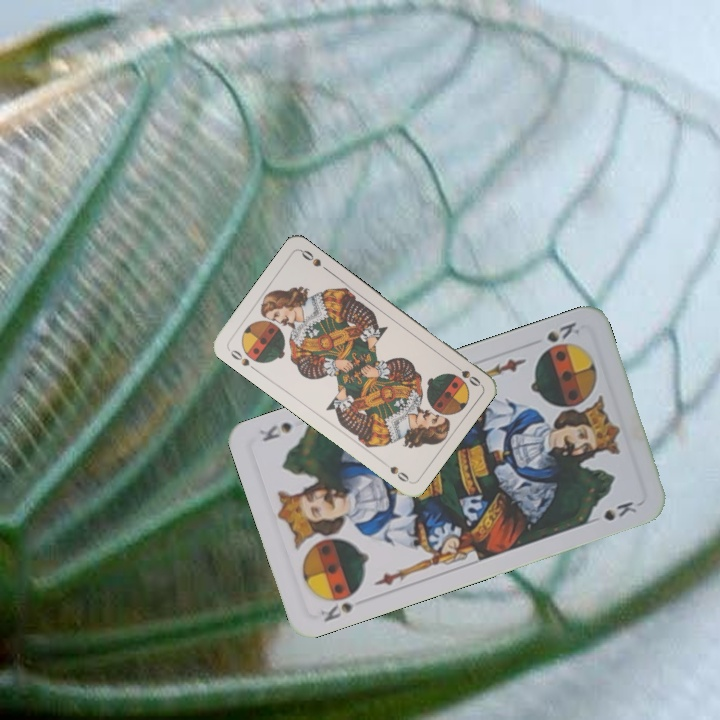SK: (316, 585, 370, 625), (542, 318, 583, 345)
SO: (448, 359, 483, 389), (224, 345, 259, 374)
